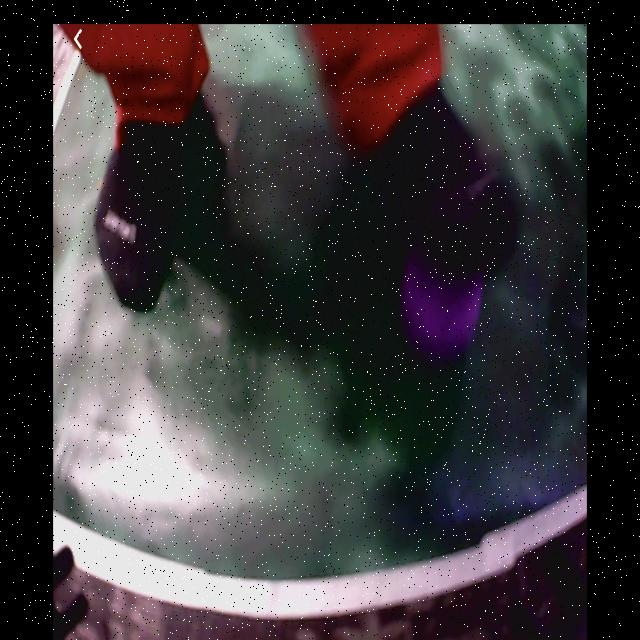ball: (405, 259, 483, 359)
